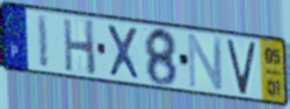8: (142, 26, 180, 89)
H: (61, 17, 98, 79)
I: (35, 12, 51, 71)
N: (186, 32, 225, 92)
V: (225, 38, 258, 97)
X: (105, 22, 143, 82)
